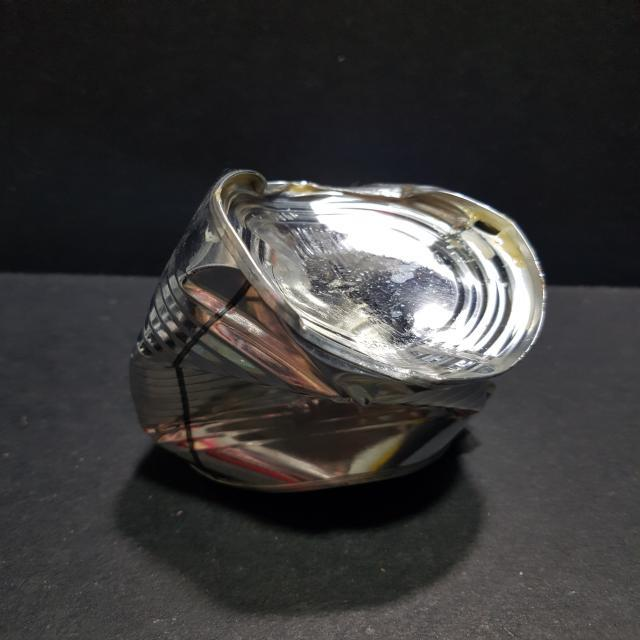metal-can: (125, 158, 548, 514)
